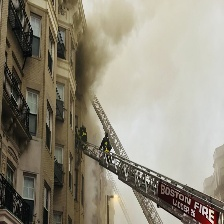smoke: (66, 3, 145, 122)
